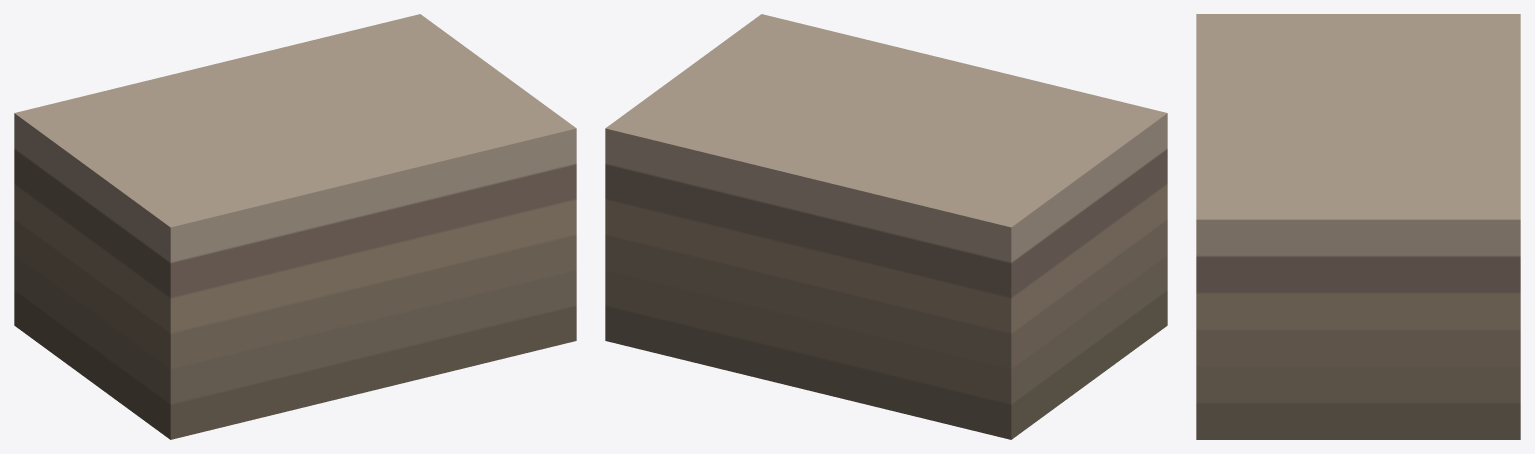
The model's file is Spine051.fbx.
The picture shows the model from 3 angles, left to right: view 1: azimuth 30°, elevation 25°; view 2: azimuth 150°, elevation 25°; view 3: azimuth 270°, elevation 25°; orthographic projection. The views are drawn at different scales.
Visible parts, largest first — view 1: Spine051; view 2: Spine051; view 3: Spine051.
Boxes of the visible parts, x1,y1,x2,y2 form: Spine051: (14, 14, 576, 439); Spine051: (605, 14, 1167, 439); Spine051: (1196, 14, 1520, 439).
Size of the model in its own units: 12 by 6 by 8.
